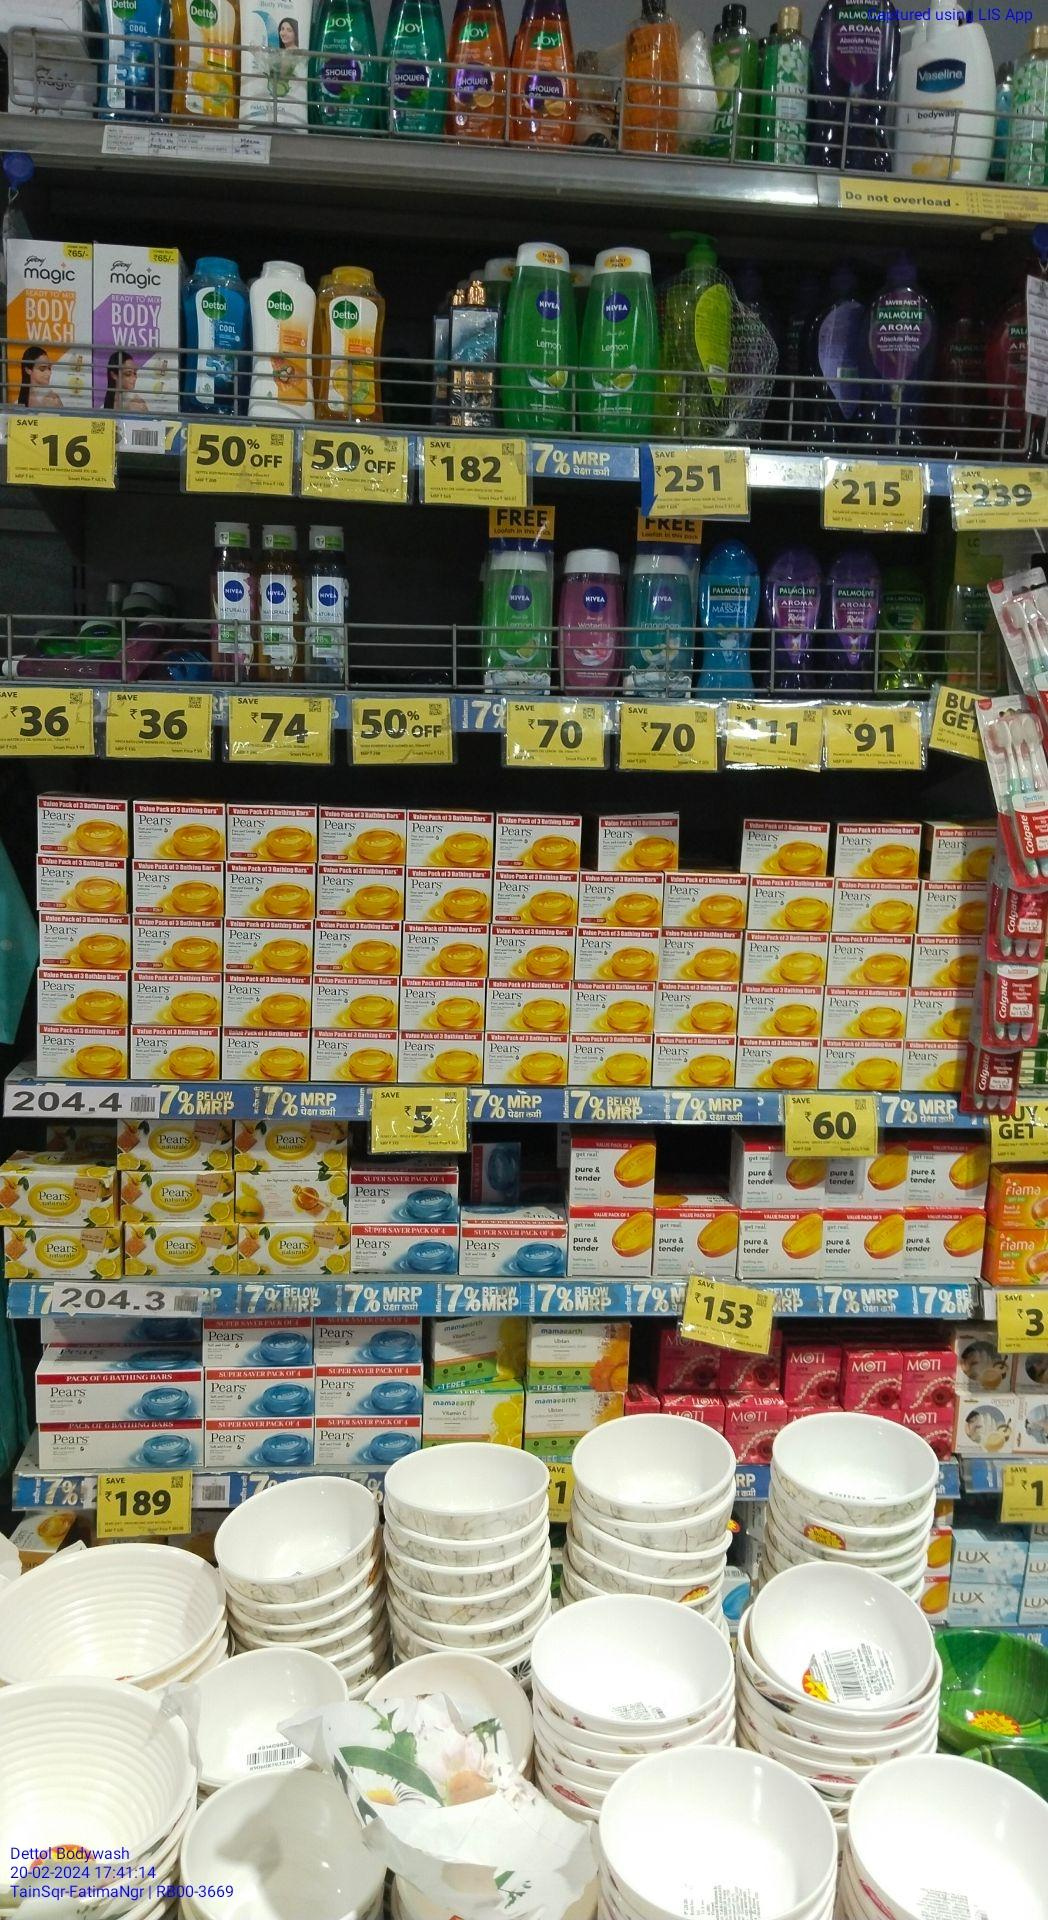Dettol_Bodywash_Cool: (181, 254, 248, 414), (102, 0, 172, 123)
Dettol_Bodywash_Refresh: (320, 265, 386, 421), (174, 0, 237, 128)
Dettol_Nourish_Body_Wash_250ML: (252, 259, 316, 419)
Joy_Shower_Gel_Mandarin_and_Lemongrass_250ML: (514, 0, 573, 143), (450, 1, 510, 141)
Joy_Shower_Gel_Mint_and_Eucalyptus_250ML: (314, 0, 382, 134), (387, 0, 448, 138)
Liril_Lime_and_Tea_Tree_Oil_Body_Wash_250ML: (711, 4, 754, 159)
Lux_Body_Wash_Skin_Detox_Freesia_Scent_and_Alove_Vera_245ML: (761, 8, 812, 161)
Nivea_Shower_Gel_Lemon_and_Oil_250ML: (583, 246, 658, 437), (503, 240, 578, 428)
Nivea_Shower_Gel_Waterlily_and_Oil_250ML: (555, 550, 623, 694)
Palmolive_Aroma_Moments_Feel_The_Massage_Shower_Gel_250ML: (698, 539, 759, 698)
Palmolive_Aroma_Relax_250ML: (764, 548, 821, 698), (825, 546, 879, 702)
